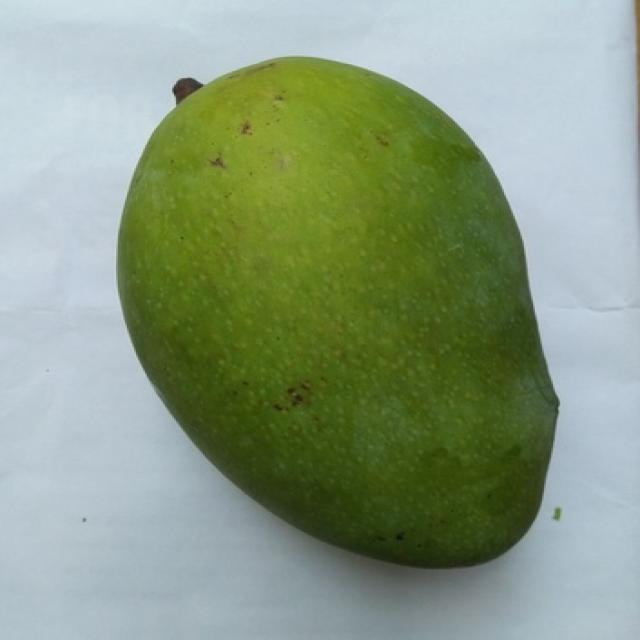Mango: (118, 57, 557, 566)
